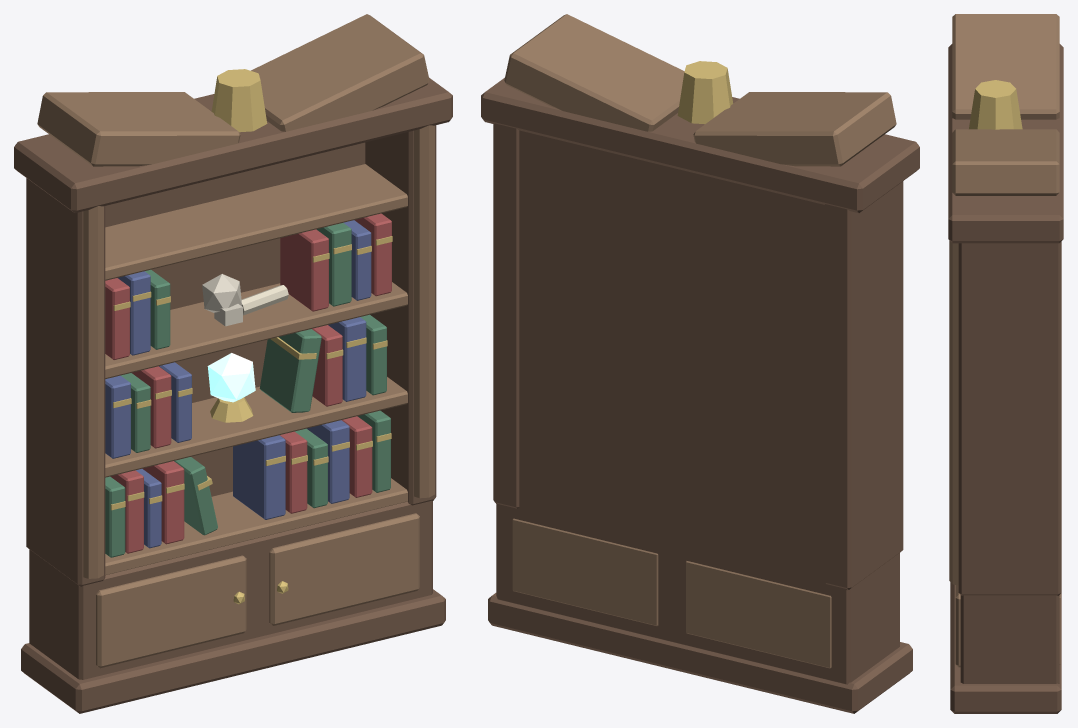
Rendered from castle_bookcase.glb.
3 views of the same model, side by side, from view 1: azimuth 30°, elevation 25°; view 2: azimuth 150°, elevation 25°; view 3: azimuth 270°, elevation 25° (orthographic). The views are drawn at different scales.
Parts seen in each view (by area): view 1: Castle_Bookcase; view 2: Castle_Bookcase; view 3: Castle_Bookcase.
Boxes of the visible parts, x1,y1,x2,y2 form: Castle_Bookcase: [14, 14, 452, 713]; Castle_Bookcase: [481, 14, 919, 713]; Castle_Bookcase: [948, 14, 1063, 713].
Size of the model in its own units: 2.52 by 3.64 by 0.7.
